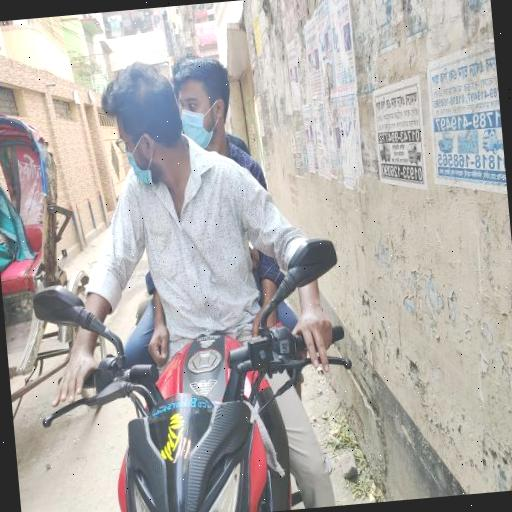no helmet: (38, 52, 242, 255)
